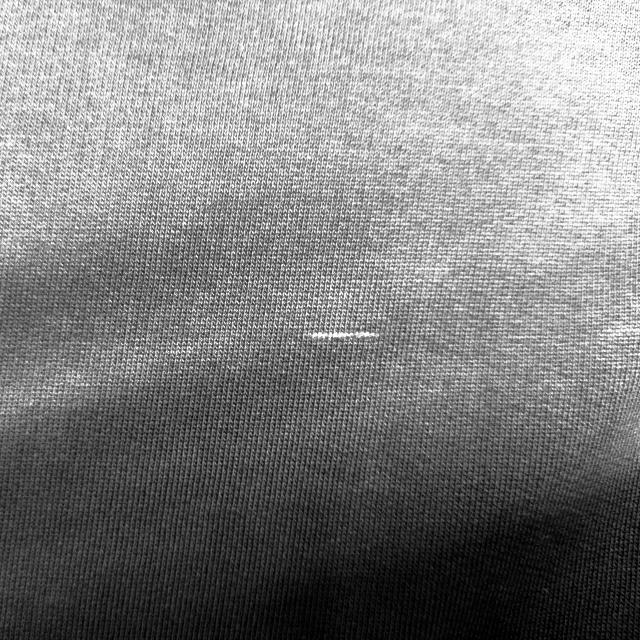Foreign_yarn: (300, 318, 406, 348)
